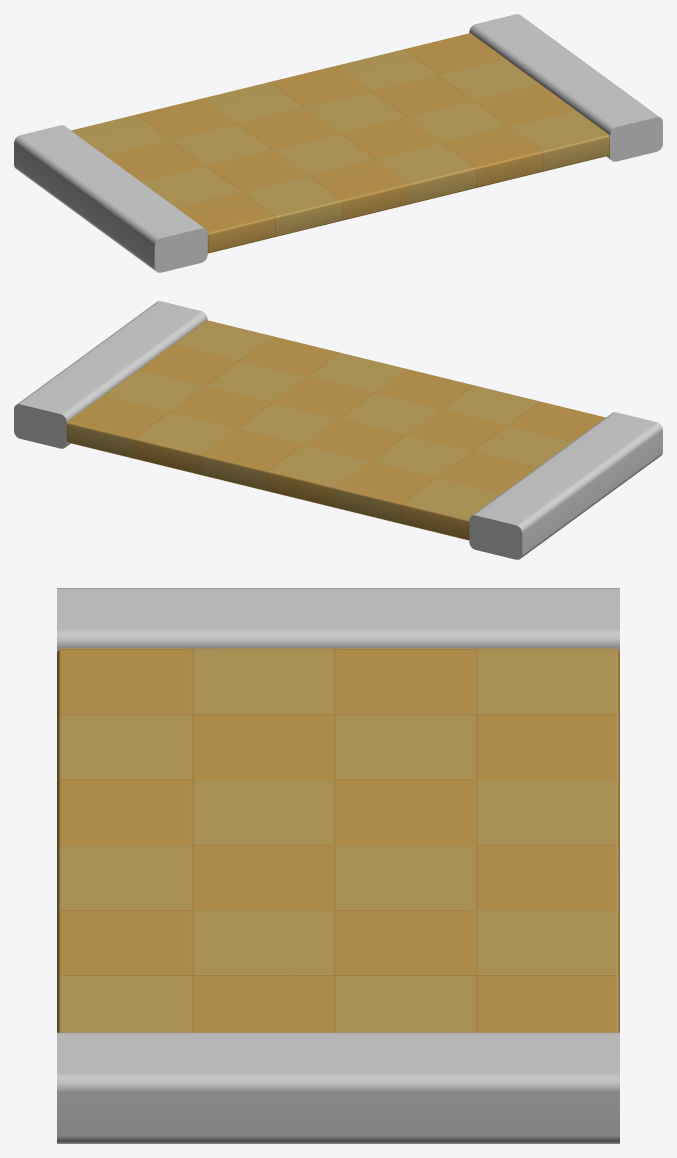
The model's file is Square_GridFloor_Wide.fbx.
3 views of the same model, one above another, from view 1: azimuth 30°, elevation 25°; view 2: azimuth 150°, elevation 25°; view 3: azimuth 270°, elevation 25° (orthographic). The views are drawn at different scales.
Visible parts, largest first — view 1: Square_GridFloor_Wide; view 2: Square_GridFloor_Wide; view 3: Square_GridFloor_Wide.
Part boxes in pixels (bbox=[...]): Square_GridFloor_Wide: bbox=[14, 14, 662, 272]; Square_GridFloor_Wide: bbox=[14, 301, 662, 559]; Square_GridFloor_Wide: bbox=[57, 588, 619, 1143].
Bounding box in the file's own units: 1250 × 81.08 × 600.
